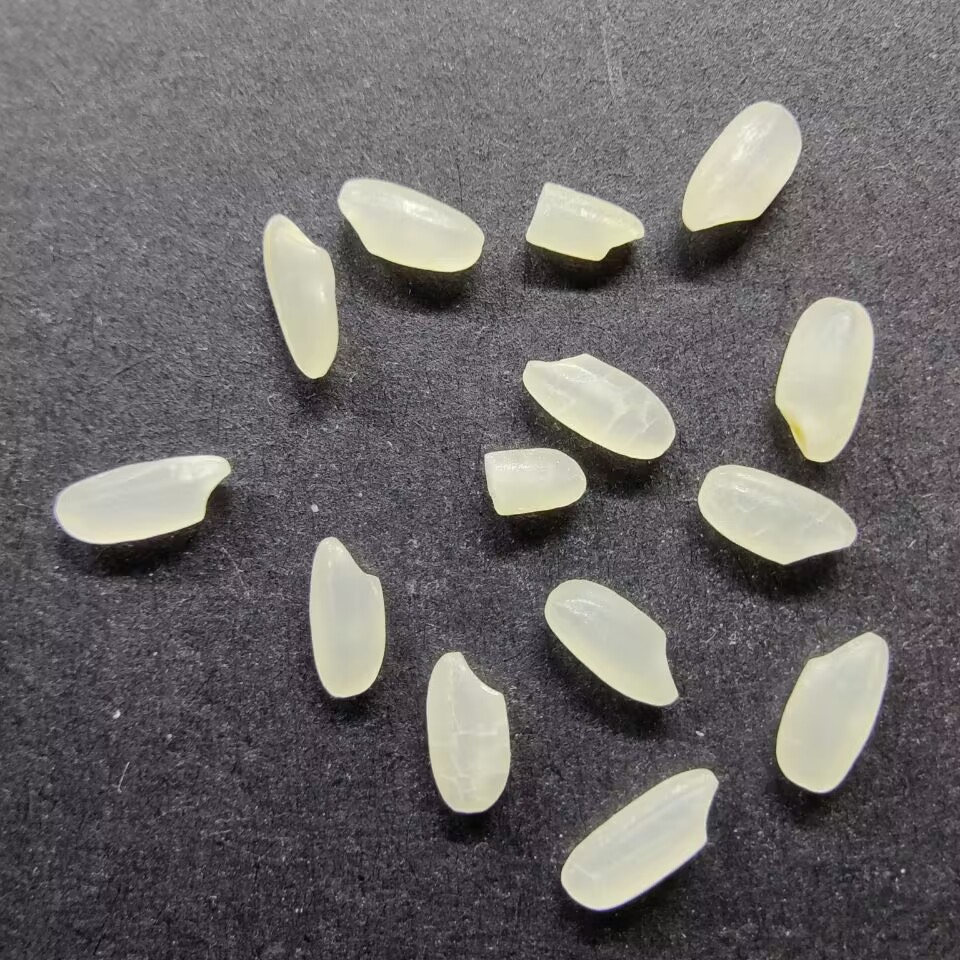broken: (523, 181, 648, 262), (481, 446, 587, 518)
rice: (557, 765, 720, 913), (774, 629, 890, 794), (541, 577, 680, 708), (695, 462, 859, 567), (520, 350, 675, 461), (679, 97, 802, 235), (774, 296, 875, 463), (52, 453, 232, 545), (424, 649, 514, 814), (334, 176, 486, 273), (259, 213, 341, 380), (307, 535, 387, 698)
